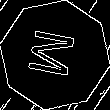M_E: (26, 28, 84, 82)
